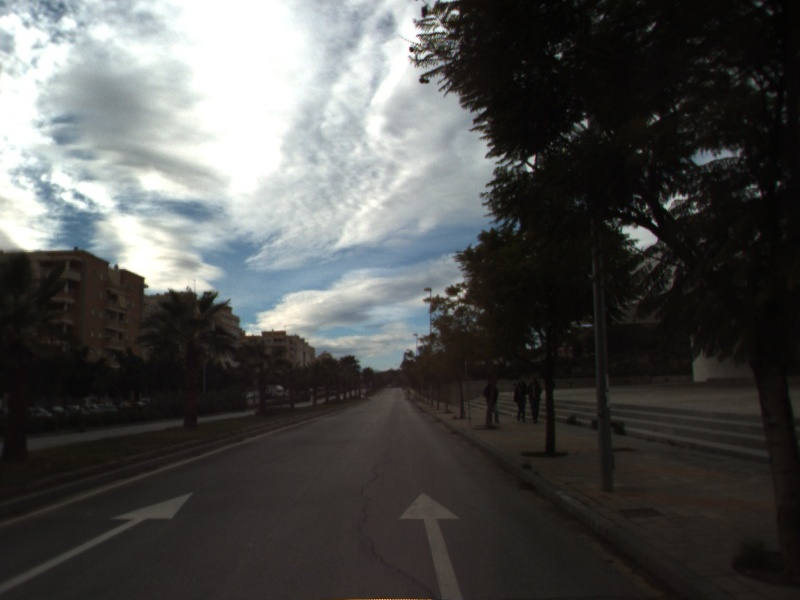STRAIGHT: (1, 491, 195, 595), (397, 490, 465, 600)
